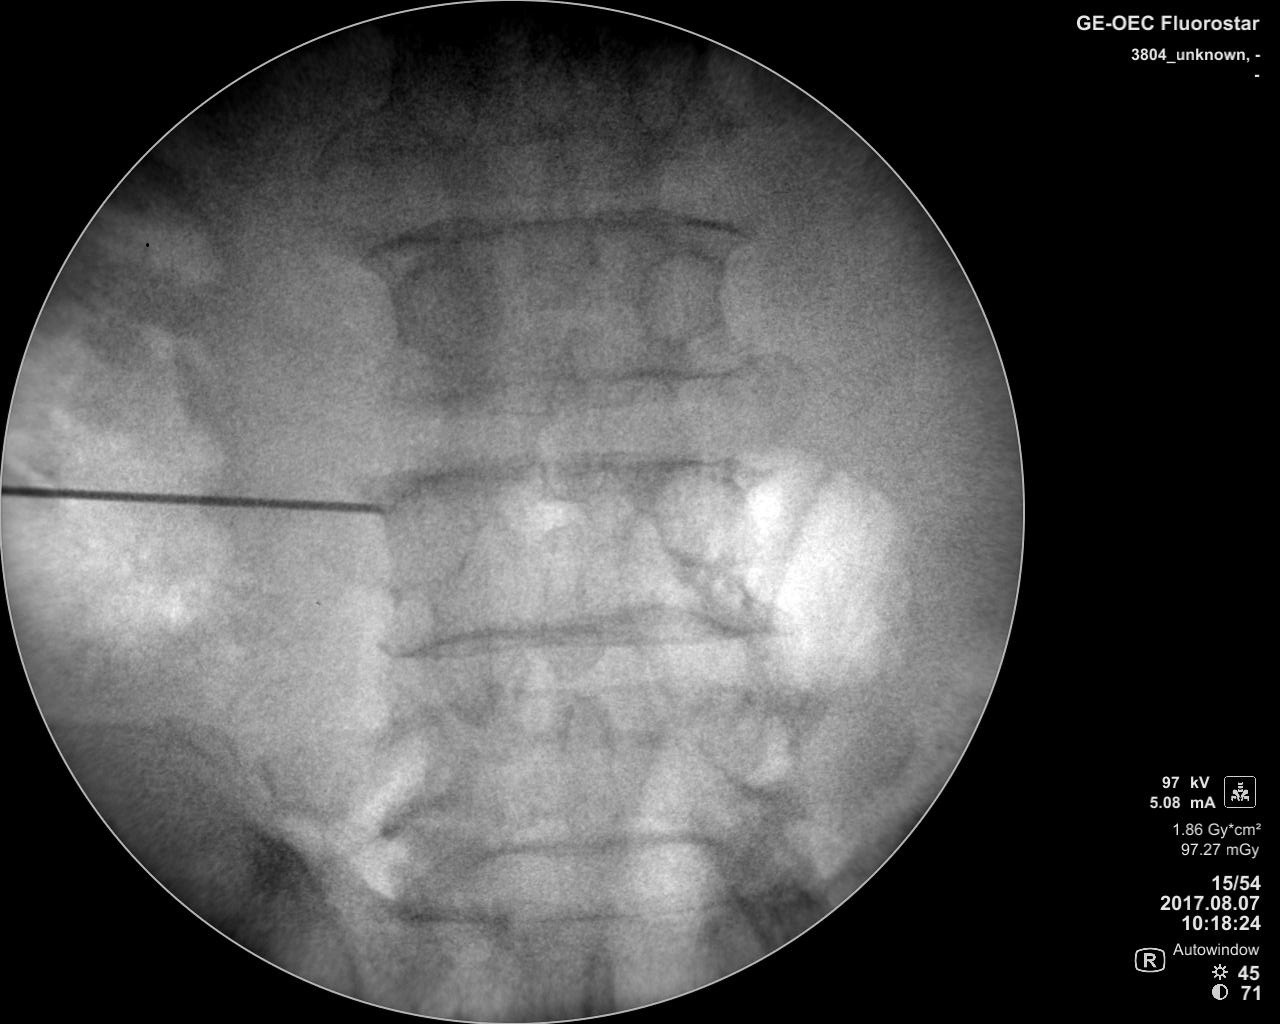eyes: (686, 686, 801, 802), (641, 460, 755, 575), (389, 254, 497, 360), (381, 484, 478, 590), (631, 249, 727, 344)
line: (374, 603, 787, 667), (349, 203, 755, 261), (360, 443, 794, 494), (360, 360, 789, 401), (449, 827, 743, 870)
nose: (518, 123, 598, 295), (526, 323, 600, 506), (531, 523, 607, 681), (546, 689, 623, 846)
